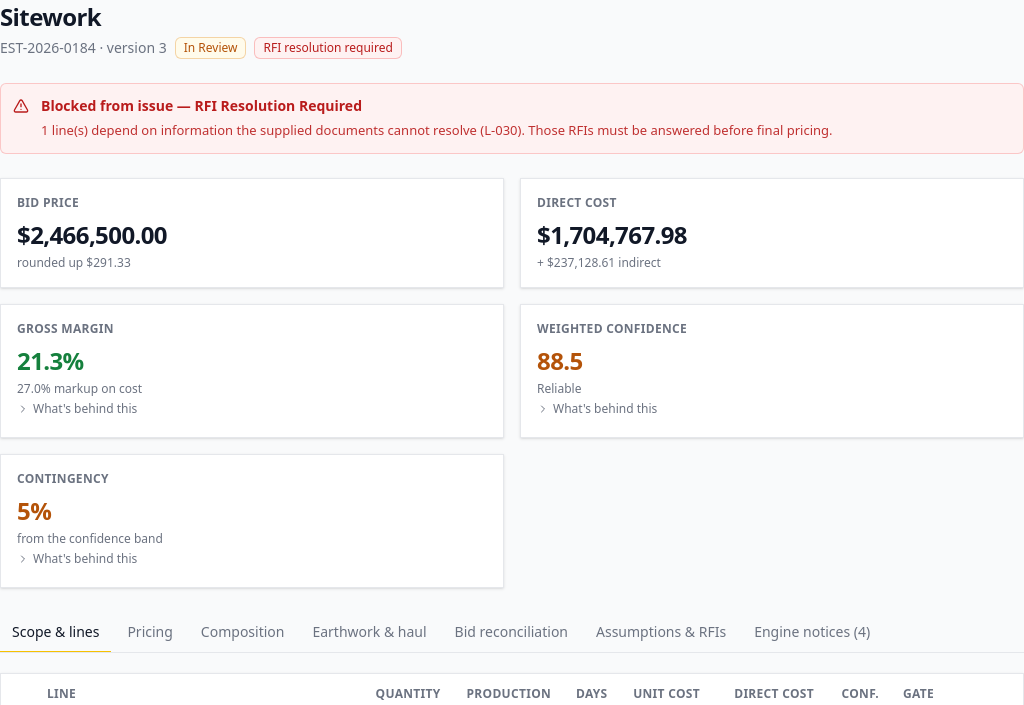
it: estimate workspace › reports the cut/fill balance in the correct volume states
The image size is (1024, 705).
Click the tab "Earthwork & haul" at x=370, y=632, box [300,612,439,652]
(page scrolled)
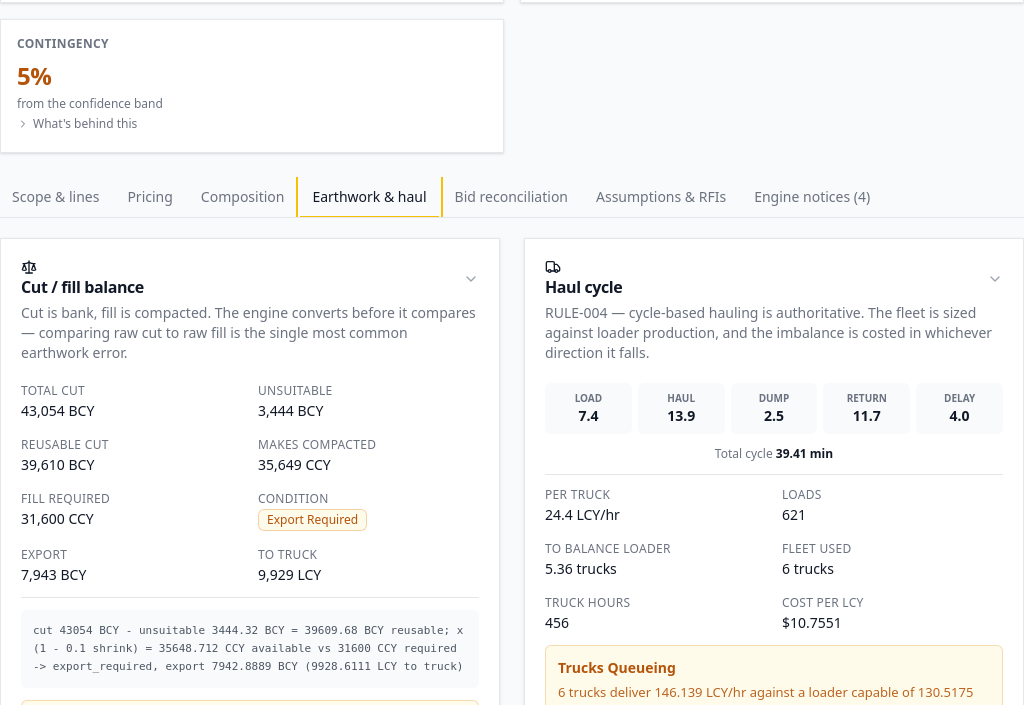
Check: the text "Total cut" is shown, box [21,382,85,399]
Check: the text "Makes compacted" is shown, box [258,436,376,453]
Check: the text "Cut is bank, fill is compacted" is shown, box [21,303,476,362]
